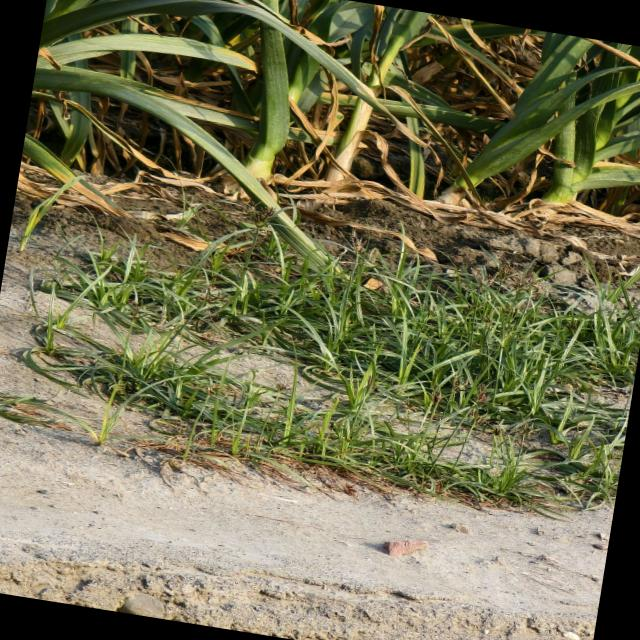cyperus: (238, 194, 285, 238), (466, 404, 512, 438), (194, 281, 231, 320), (468, 264, 500, 296), (469, 379, 502, 408), (128, 288, 150, 324), (513, 271, 541, 296), (394, 394, 420, 418), (426, 380, 448, 408), (446, 372, 469, 398), (496, 258, 516, 280), (272, 376, 293, 396), (478, 311, 496, 330), (520, 421, 538, 438)
